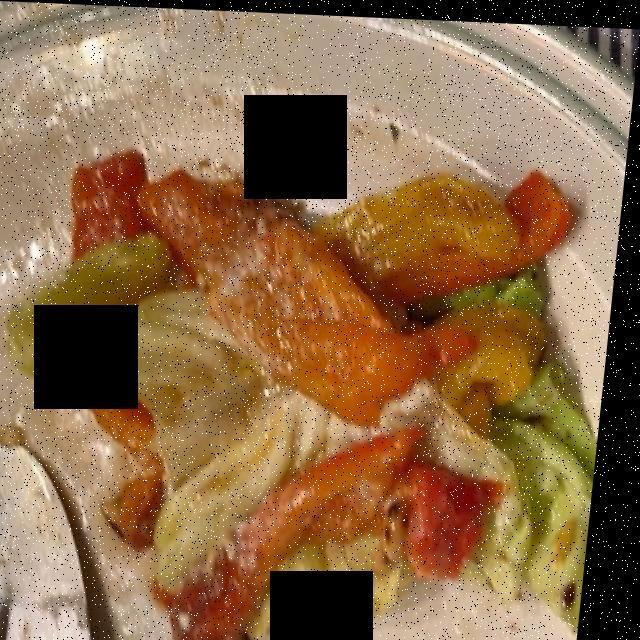bell-pepper: (69, 146, 575, 640)
salad: (13, 230, 598, 630)
